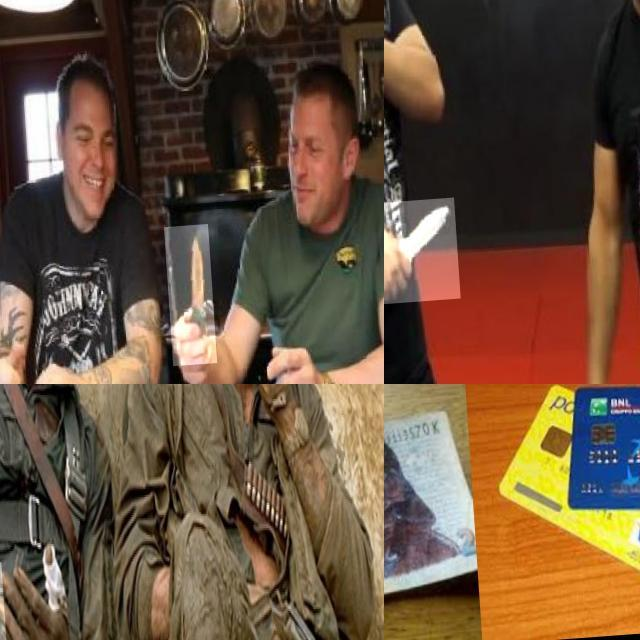-: (160, 230, 212, 372), (384, 200, 453, 307)
gun-knife-thesis - v11 Yolov5 augmented: (0, 564, 42, 640), (260, 590, 323, 640)
